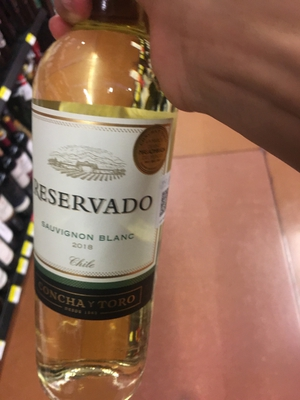reservado sauvignon blanc: (24, 24, 178, 396)
